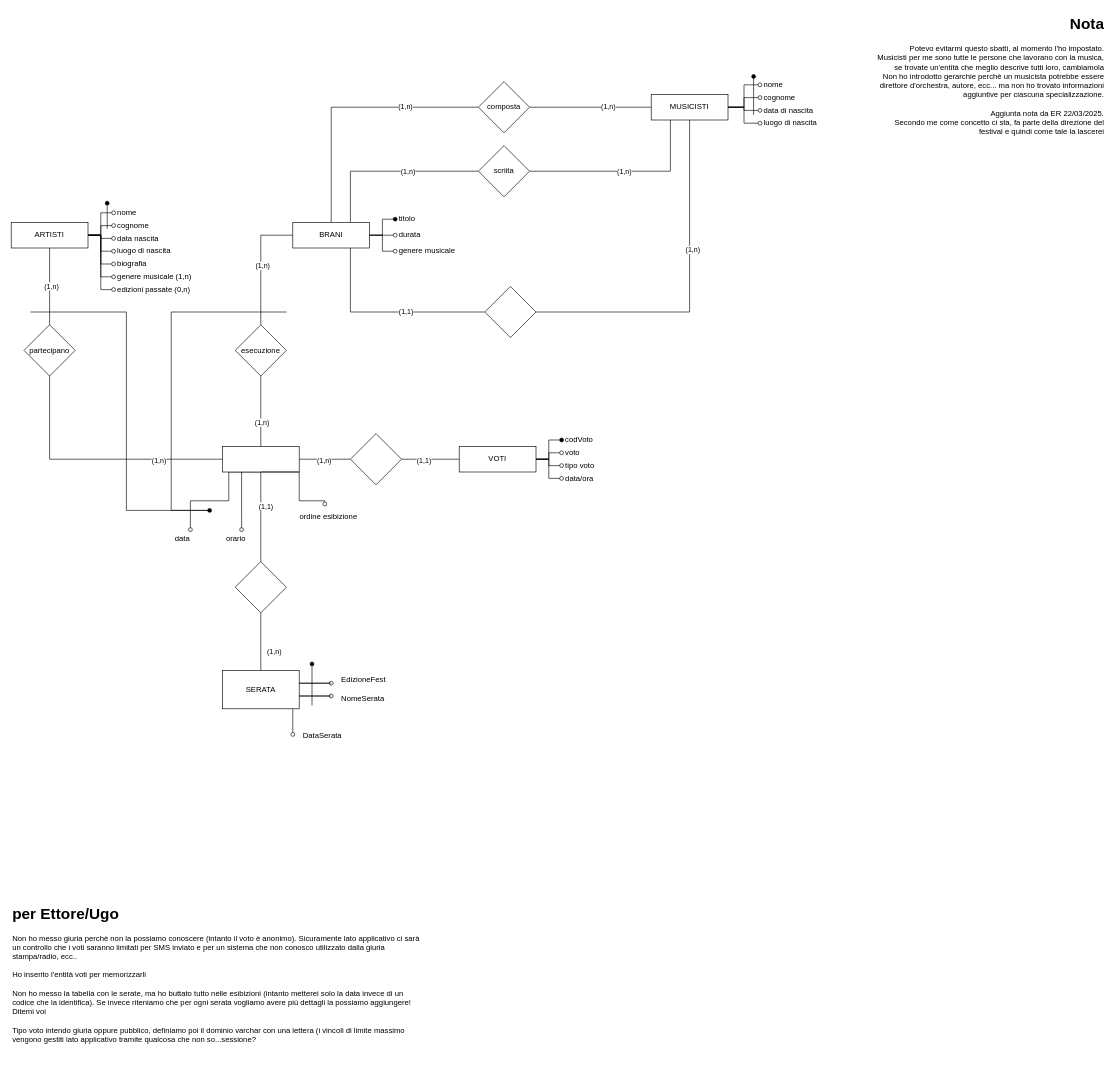
Some shapes in this 1117 by 1075 pixel diagram are drawn without their labels. Here are the shapes that lost their labels. From the top down, the box of each, then its label:
(484, 286, 536, 338): diretta
(222, 446, 299, 472): ESIBIZIONI
(350, 433, 402, 485): sono giudicate
(235, 561, 286, 613): Contiene
